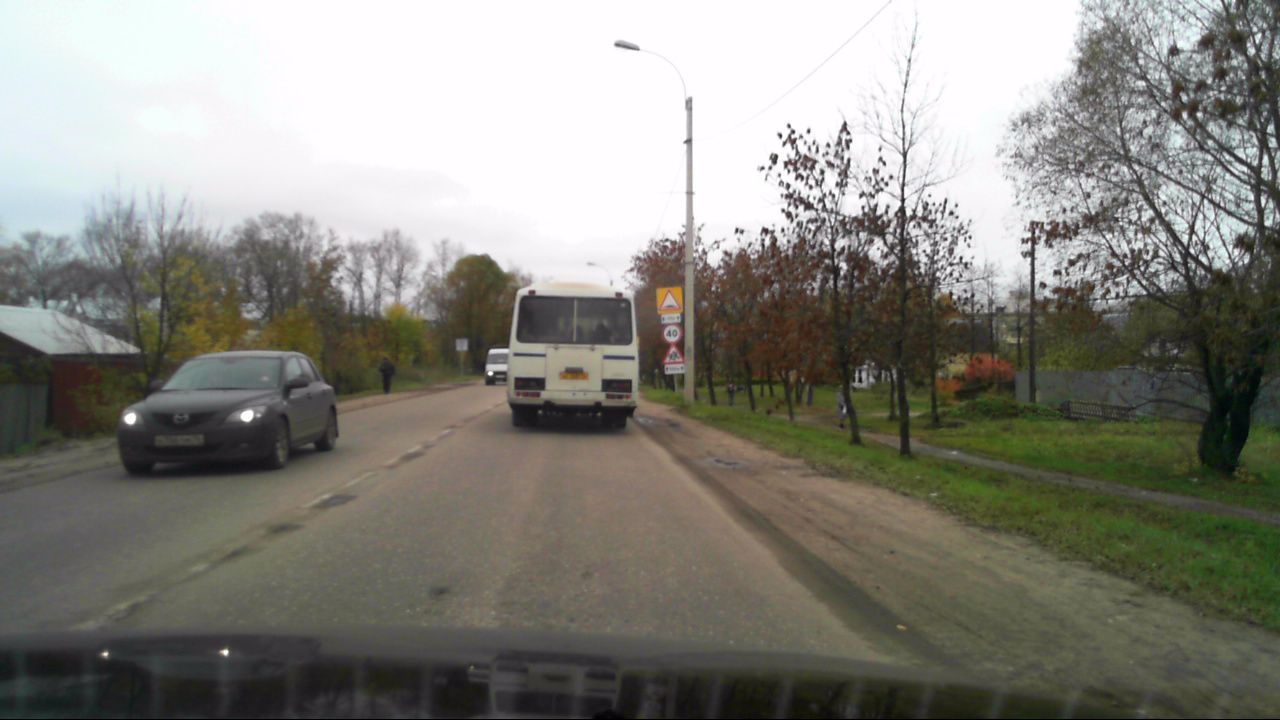speed_warning_40: (663, 323, 679, 341)
